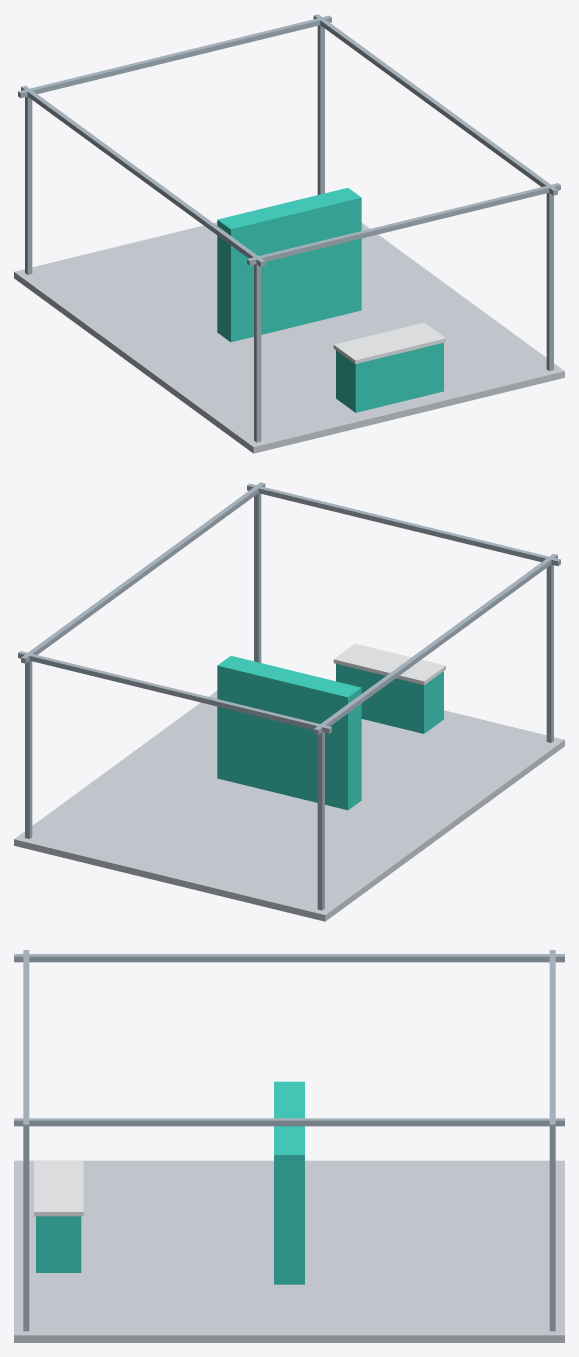
3 renders of one model, top to bottom at view 1: azimuth 30°, elevation 25°; view 2: azimuth 150°, elevation 25°; view 3: azimuth 270°, elevation 25°, orthographic. The views are drawn at different scales.
Visible parts, largest first — view 1: Exhibition Booth Concept; view 2: Exhibition Booth Concept; view 3: Exhibition Booth Concept.
Part boxes in pixels (<box>): Exhibition Booth Concept: <box>14,14,564,453</box>; Exhibition Booth Concept: <box>14,482,564,921</box>; Exhibition Booth Concept: <box>14,950,564,1342</box>.
Bounding box in the file's own units: 6 × 3.49 × 8.
